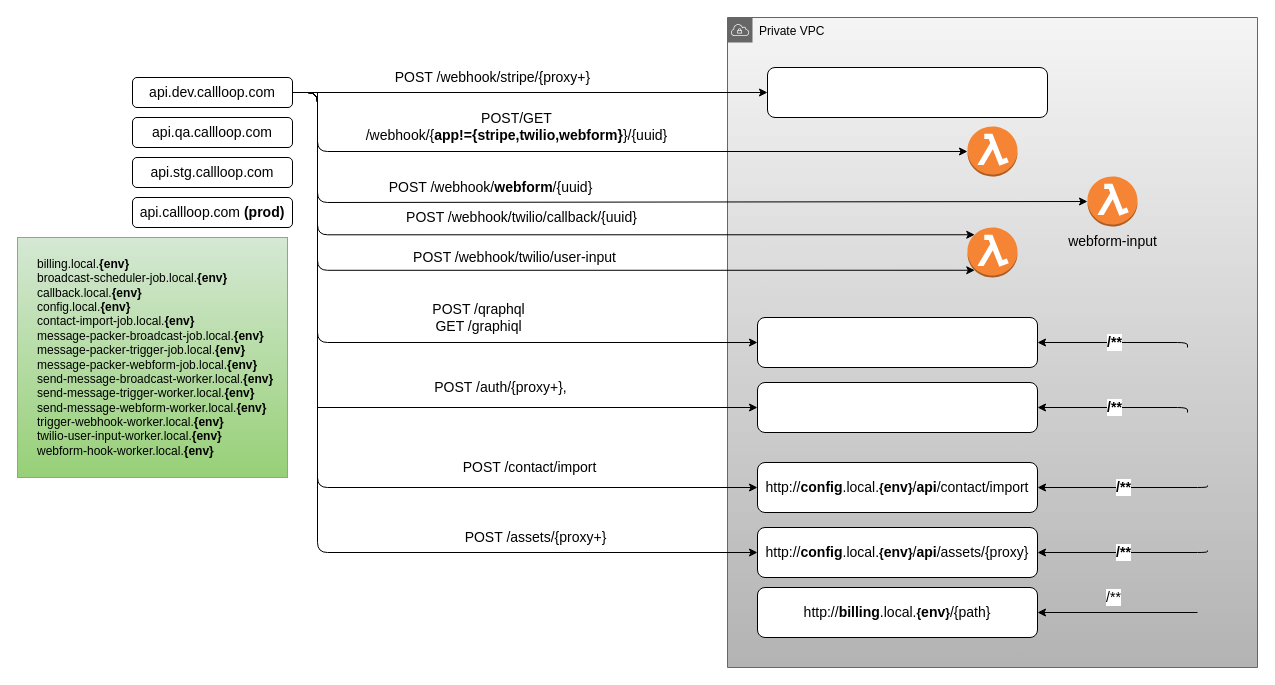
Image size: 1275x685. Some labels were removed from this diagram. The shapes that lost their labels are listed below. From the top down, each one's centre as x and y in pixels, then its label:
At pixel 907 92: "http:// billing .local. { env } /api/webhook/{proxy}".
At pixel 992 151: "trigger-input".
At pixel 992 252: "sms-callback".
At pixel 897 342: "http:// config .local. { env } /{path}".
At pixel 897 407: "http:// config .local. { env } / api /auth/{proxy}".
